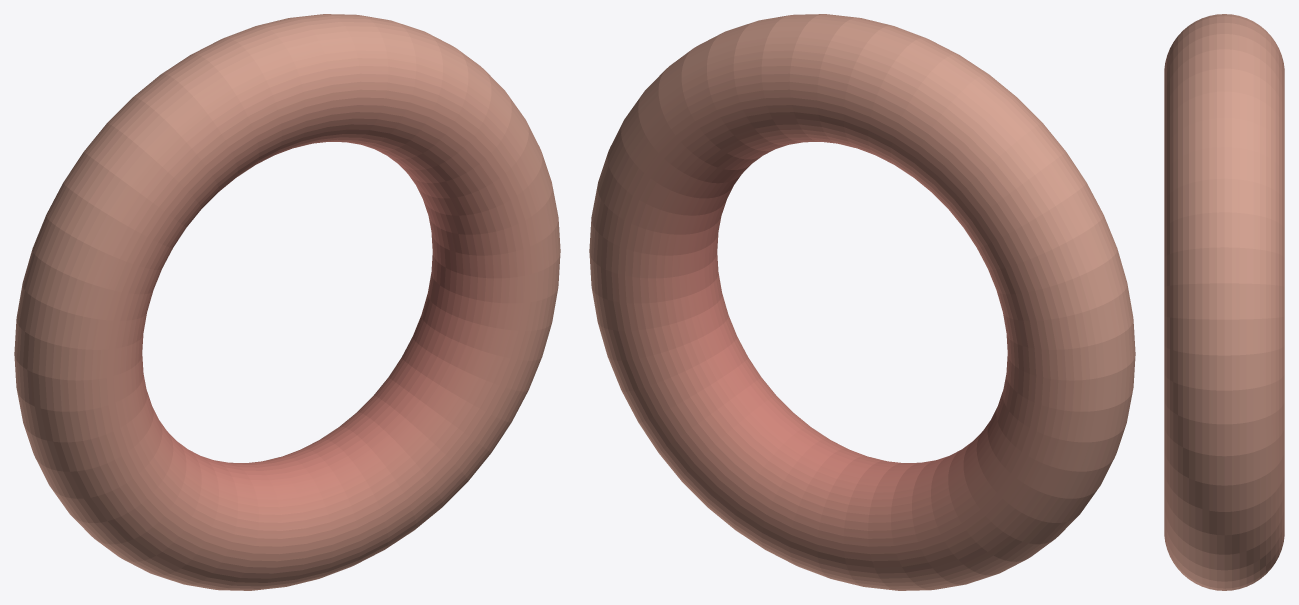
3 views of the same model, side by side, from view 1: azimuth 30°, elevation 25°; view 2: azimuth 150°, elevation 25°; view 3: azimuth 270°, elevation 25° (orthographic). The views are drawn at different scales.
Parts seen in each view (by area): view 1: world; view 2: world; view 3: world.
Boxes of the visible parts, left/top/right/bottom form: world: left=14, top=14, right=560, bottom=590; world: left=589, top=14, right=1135, bottom=590; world: left=1164, top=14, right=1284, bottom=590.
Bounding box in the file's own units: 31.2 × 31.14 × 6.52.
